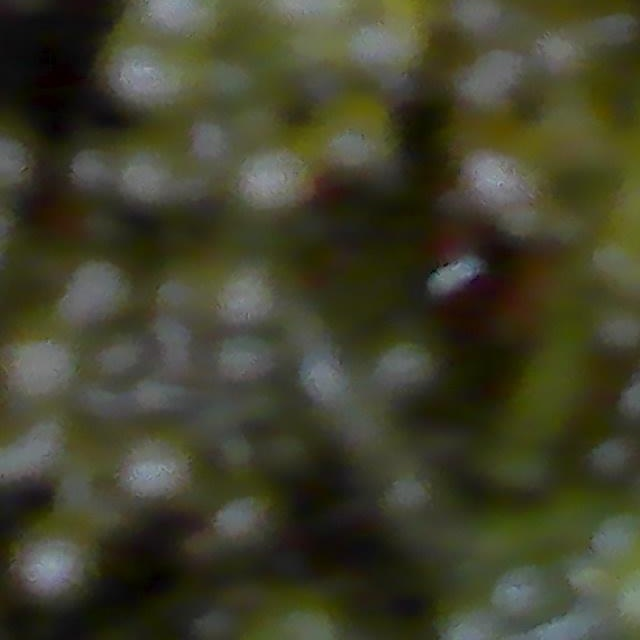SeaGrape: (101, 35, 191, 115), (10, 533, 89, 608), (118, 431, 194, 504), (2, 331, 76, 405), (63, 258, 132, 326)
